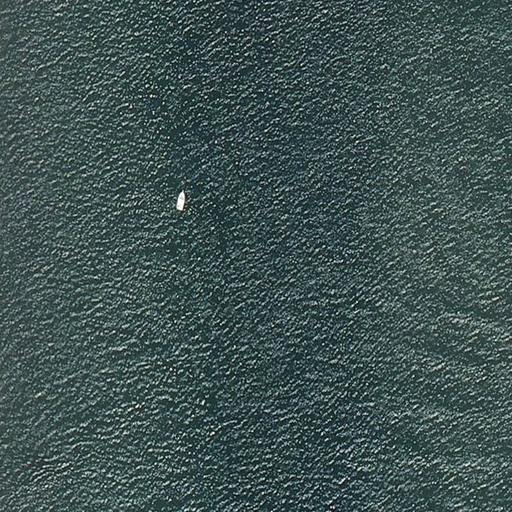ship: (173, 187, 187, 212)
